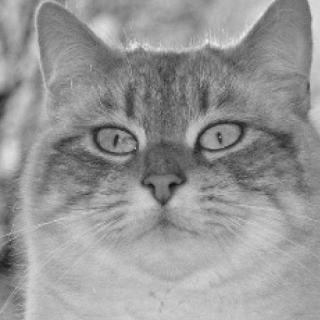cat: (35, 0, 320, 282)
nose: (137, 162, 193, 212)
